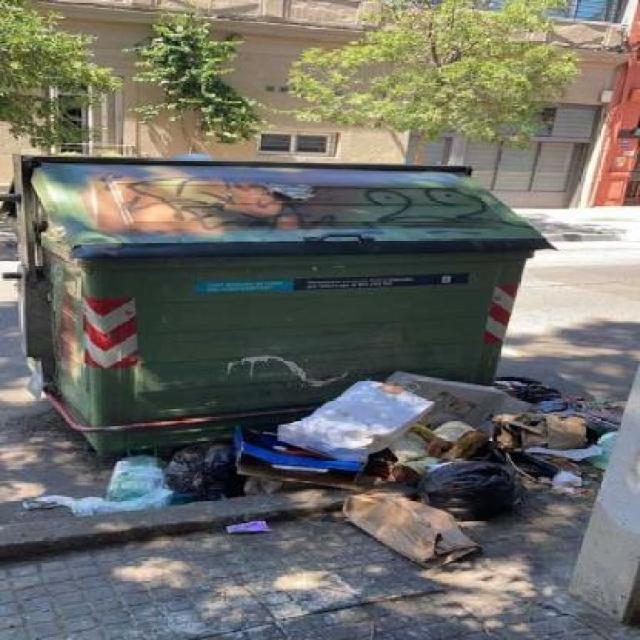garbage: (99, 356, 625, 543), (317, 514, 542, 597), (0, 482, 258, 515), (0, 481, 258, 513)
